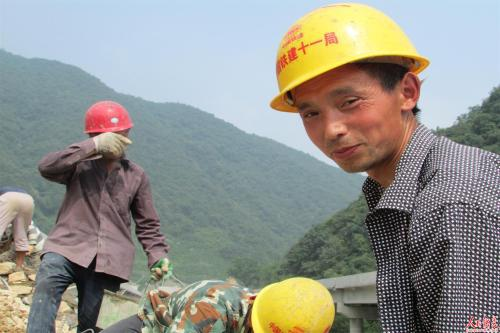helmet: (253, 0, 441, 182), (246, 277, 346, 332), (80, 97, 136, 155)
